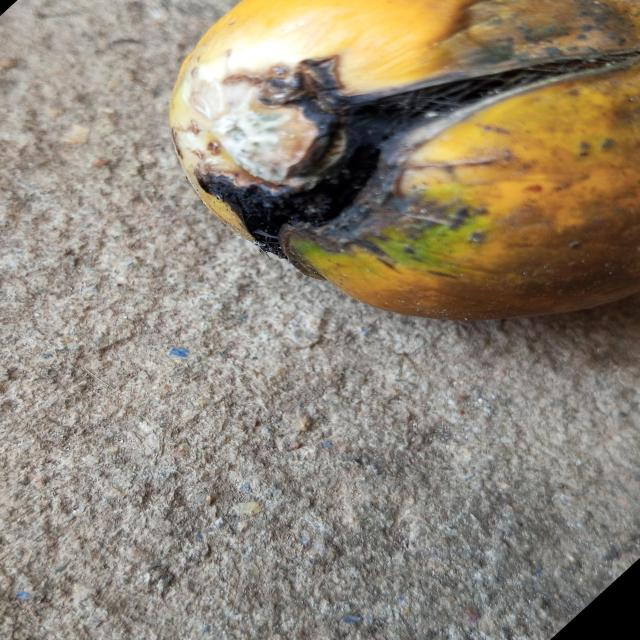damaged: (170, 0, 640, 320)
